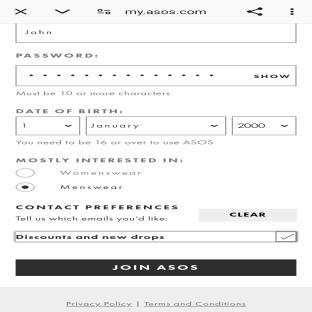Input field: (17, 66, 295, 86), (17, 24, 295, 42), (16, 232, 295, 242), (86, 117, 225, 135), (233, 117, 296, 135), (16, 117, 79, 135)
